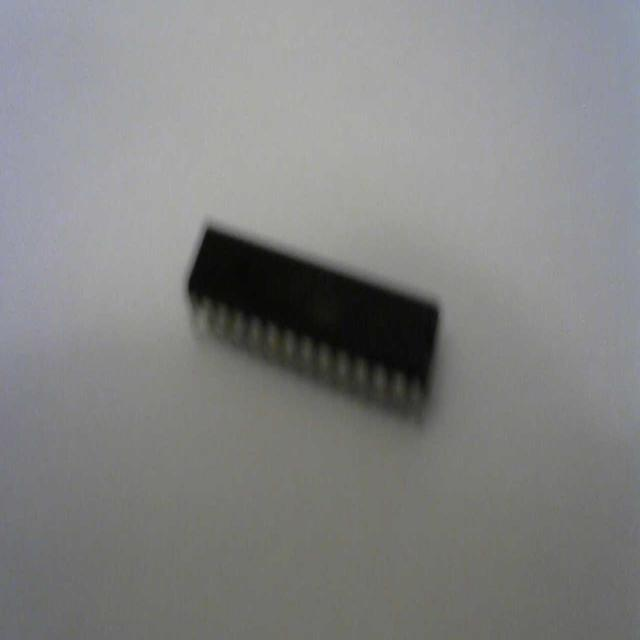atmega: (184, 216, 442, 426)
